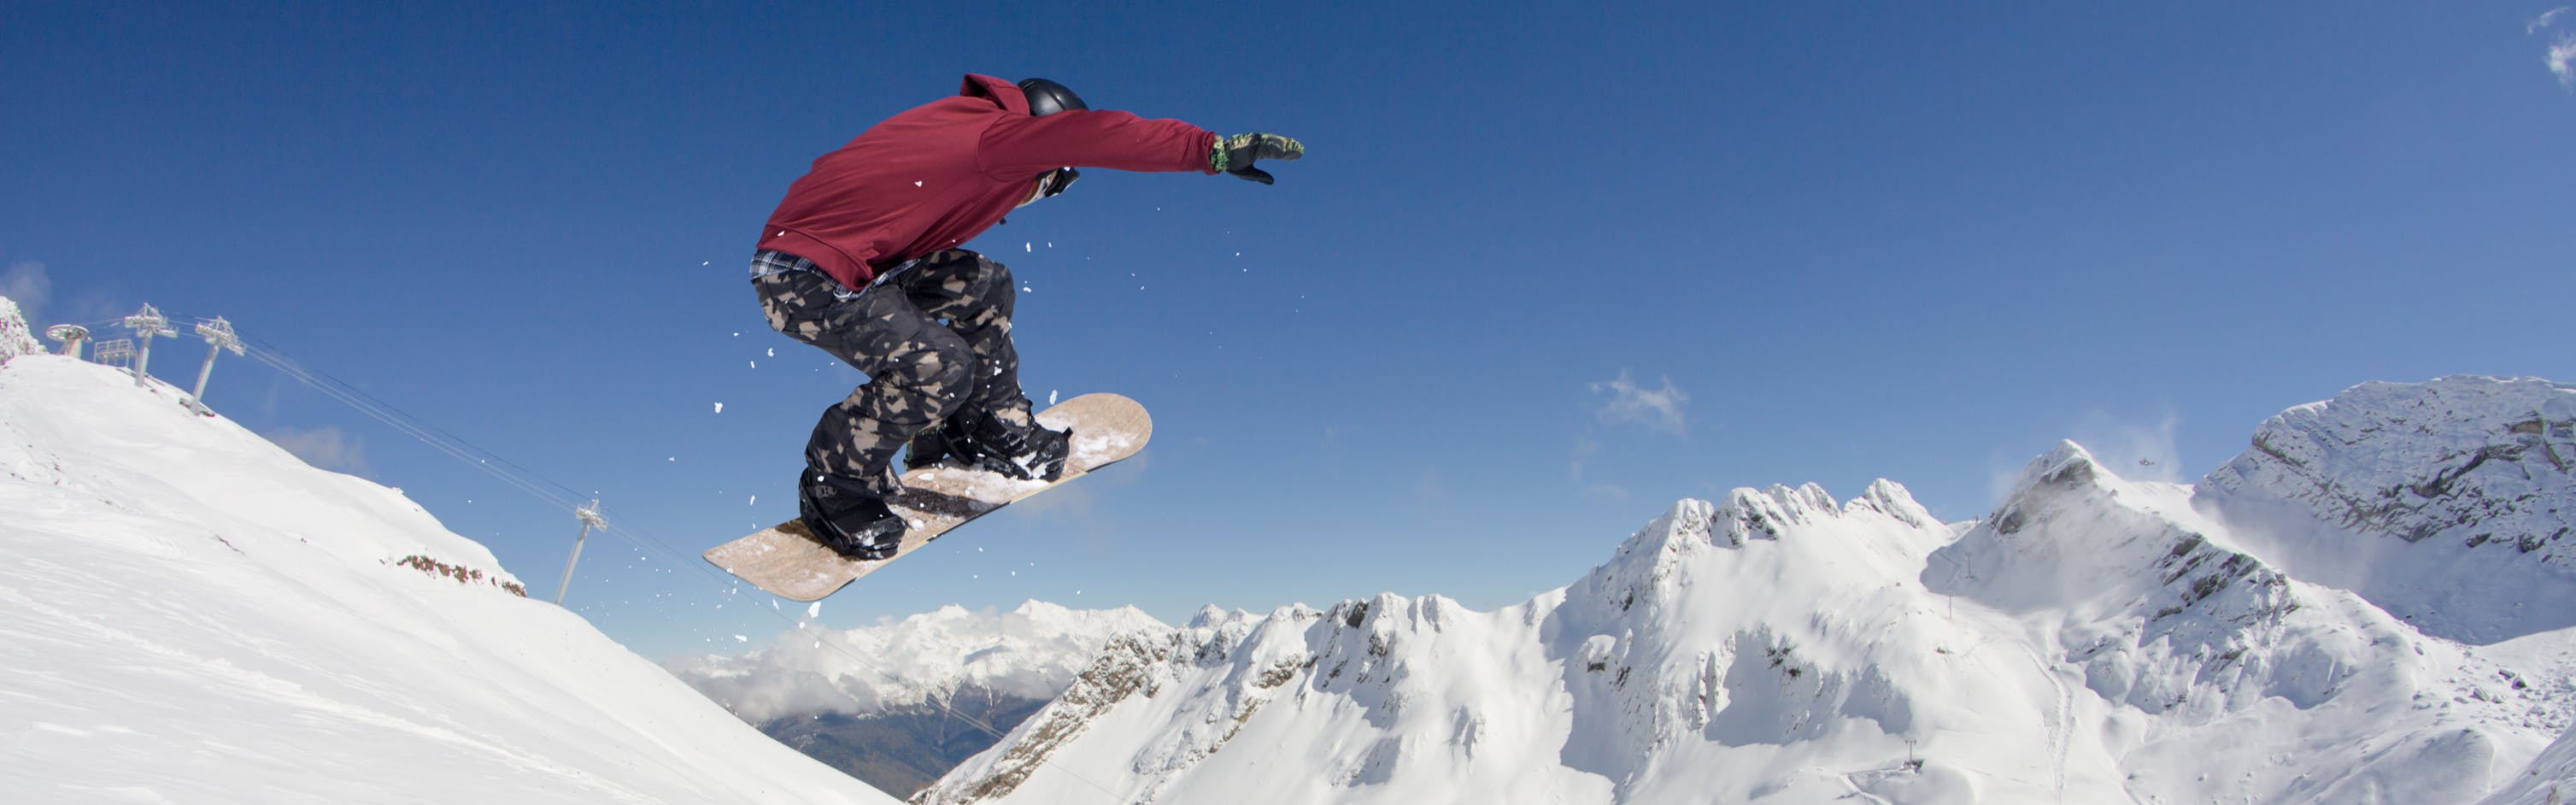snowboarder: (695, 72, 1311, 601)
